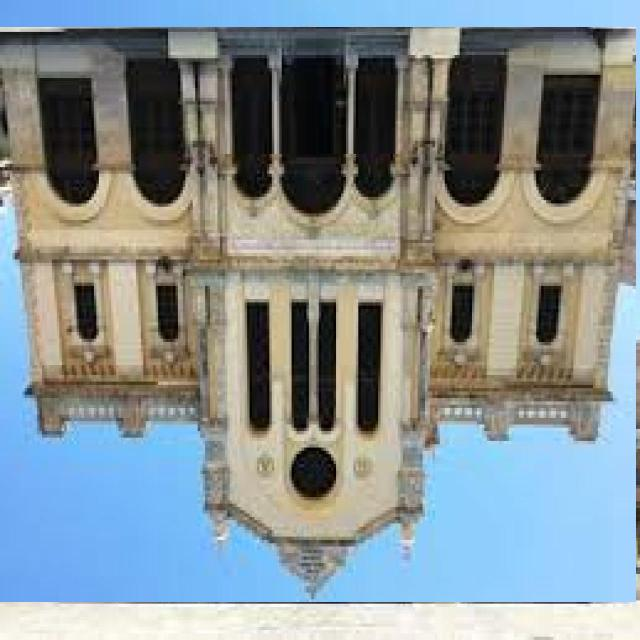Agios Minas: (1, 28, 637, 603)
